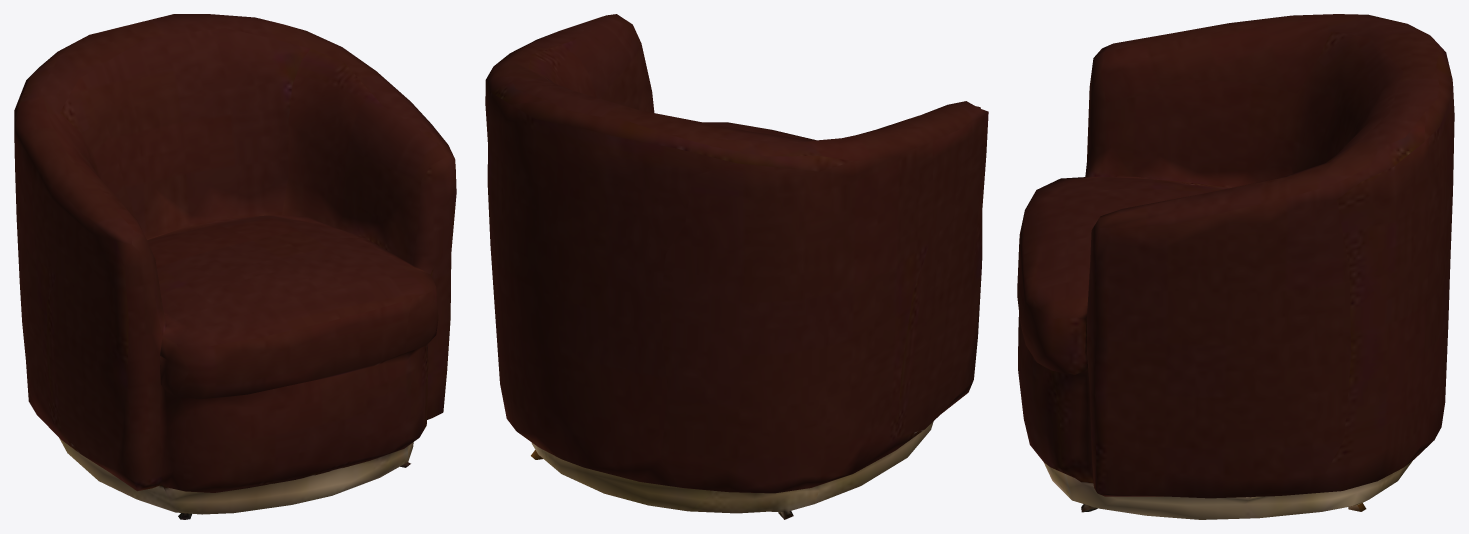
The model's file is vip_barrel_chair.glb.
3 views of the same model, side by side, from view 1: azimuth 30°, elevation 25°; view 2: azimuth 150°, elevation 25°; view 3: azimuth 270°, elevation 25° (orthographic). The views are drawn at different scales.
Size of the model in its own units: 1 by 0.948 by 0.9787.
Materials: 1 (1 with a texture image).
